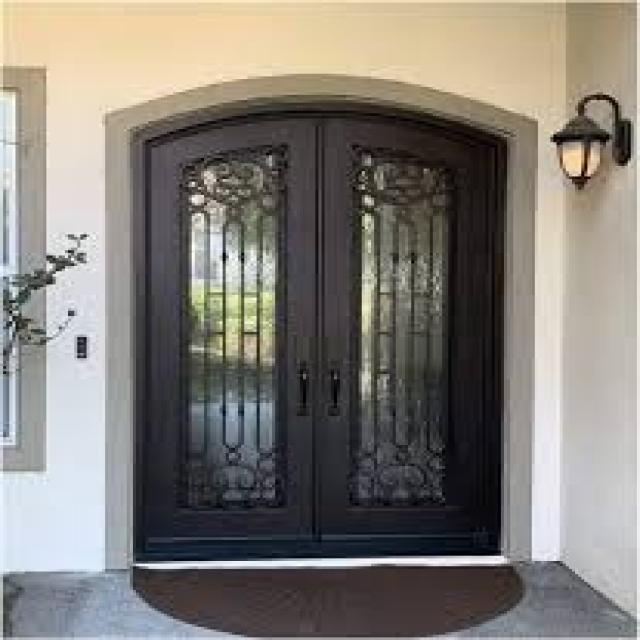door: (136, 108, 507, 558)
